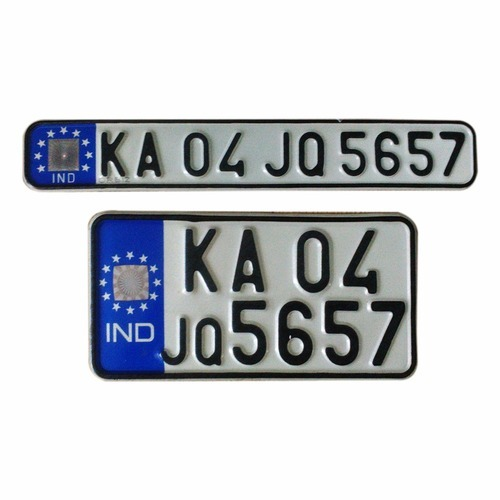plate: (81, 204, 426, 393), (21, 116, 481, 196)
